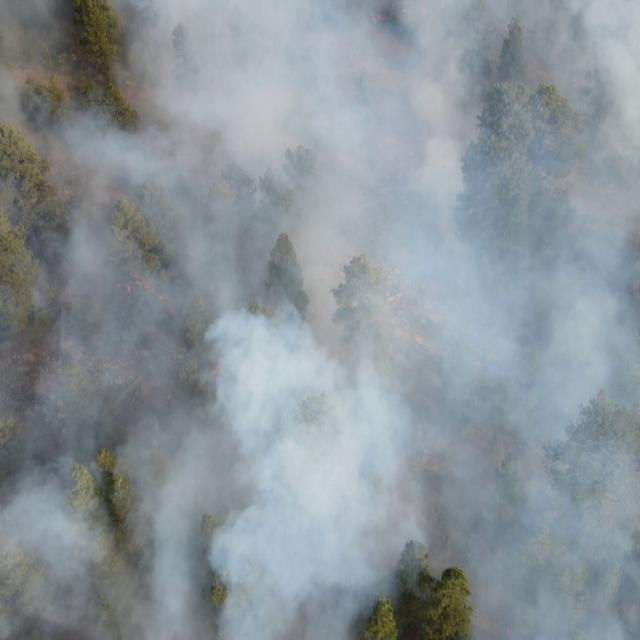fire: (110, 270, 178, 316), (372, 12, 389, 26)
smoke: (0, 0, 370, 640), (429, 0, 640, 579), (370, 0, 430, 598), (460, 581, 640, 640)
